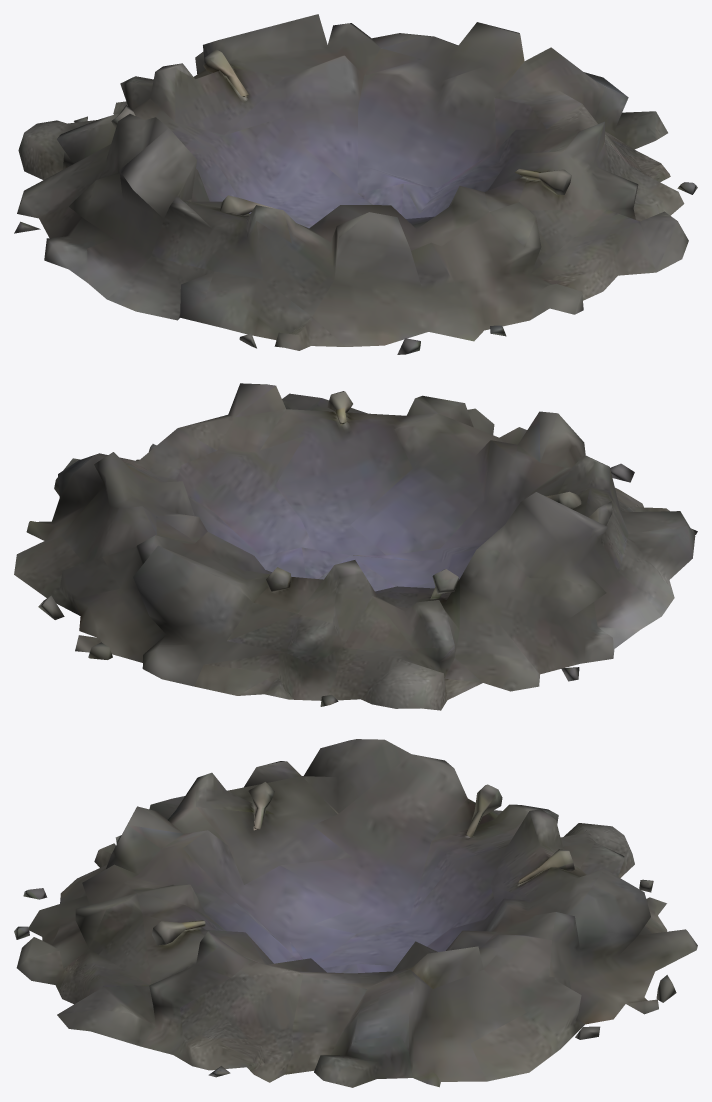
Rendered from prop_node_ore_spent.glb.
3 renders of one model, top to bottom at view 1: azimuth 30°, elevation 25°; view 2: azimuth 150°, elevation 25°; view 3: azimuth 270°, elevation 25°, orthographic.
Visible parts, largest first — view 1: tripo_node_0dce7d80-a26b-41af-b81a-66abe4e28f8e; view 2: tripo_node_0dce7d80-a26b-41af-b81a-66abe4e28f8e; view 3: tripo_node_0dce7d80-a26b-41af-b81a-66abe4e28f8e.
Boxes of the visible parts, x1=… form: tripo_node_0dce7d80-a26b-41af-b81a-66abe4e28f8e: x1=14, y1=14, x2=697, y2=354; tripo_node_0dce7d80-a26b-41af-b81a-66abe4e28f8e: x1=14, y1=383, x2=697, y2=710; tripo_node_0dce7d80-a26b-41af-b81a-66abe4e28f8e: x1=14, y1=739, x2=697, y2=1087.
Bounding box in the file's own units: 0.9747 × 0.2089 × 0.998.
Materials: 1 (1 with a texture image).
